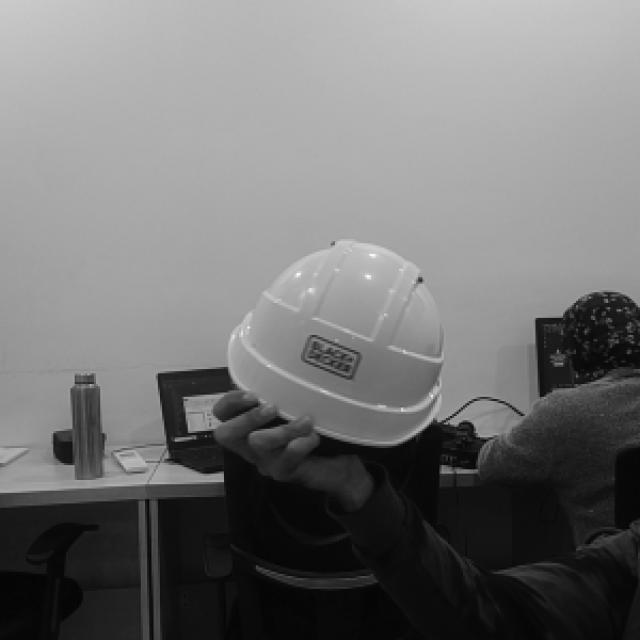safety_helmet: (226, 238, 444, 447)
